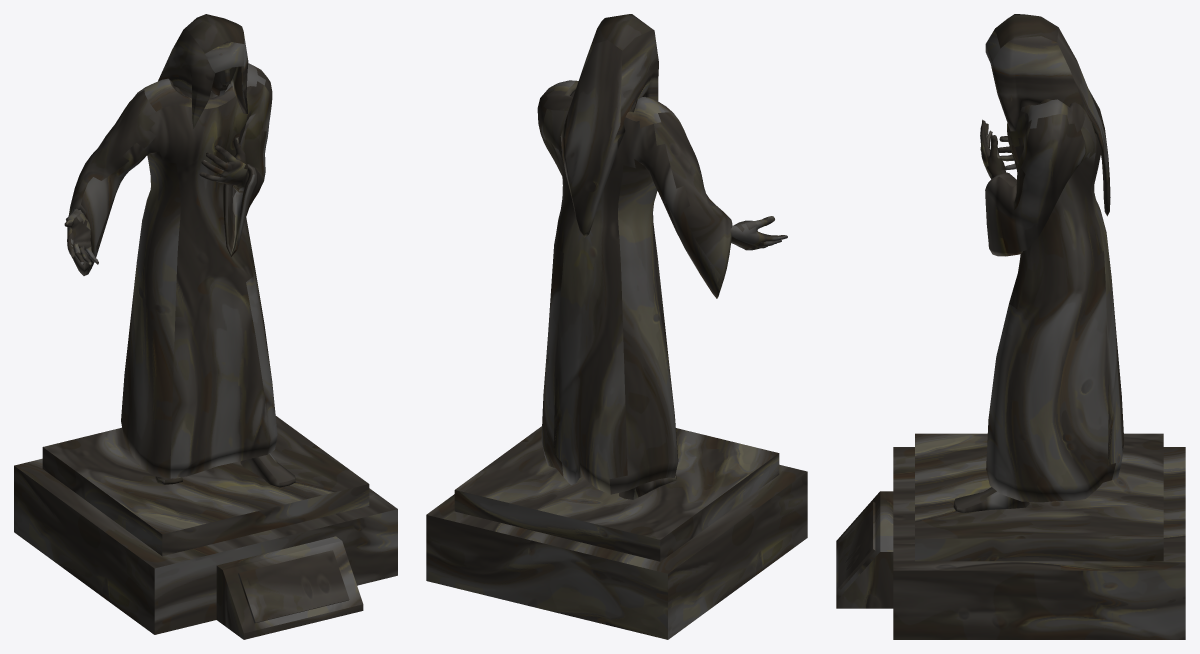
The model's file is Statue.fbx.
3 views of the same model, side by side, from view 1: azimuth 30°, elevation 25°; view 2: azimuth 150°, elevation 25°; view 3: azimuth 270°, elevation 25° (orthographic). The views are drawn at different scales.
Parts seen in each view (by area): view 1: Statue; view 2: Statue; view 3: Statue.
Part boxes in pixels (x1=…): Statue: x1=14, y1=14, x2=397, y2=639; Statue: x1=426, y1=14, x2=807, y2=639; Statue: x1=836, y1=14, x2=1185, y2=639.
Size of the model in its own units: 1.48 by 2.78 by 1.57.
Materials: 1 (1 with a texture image).
